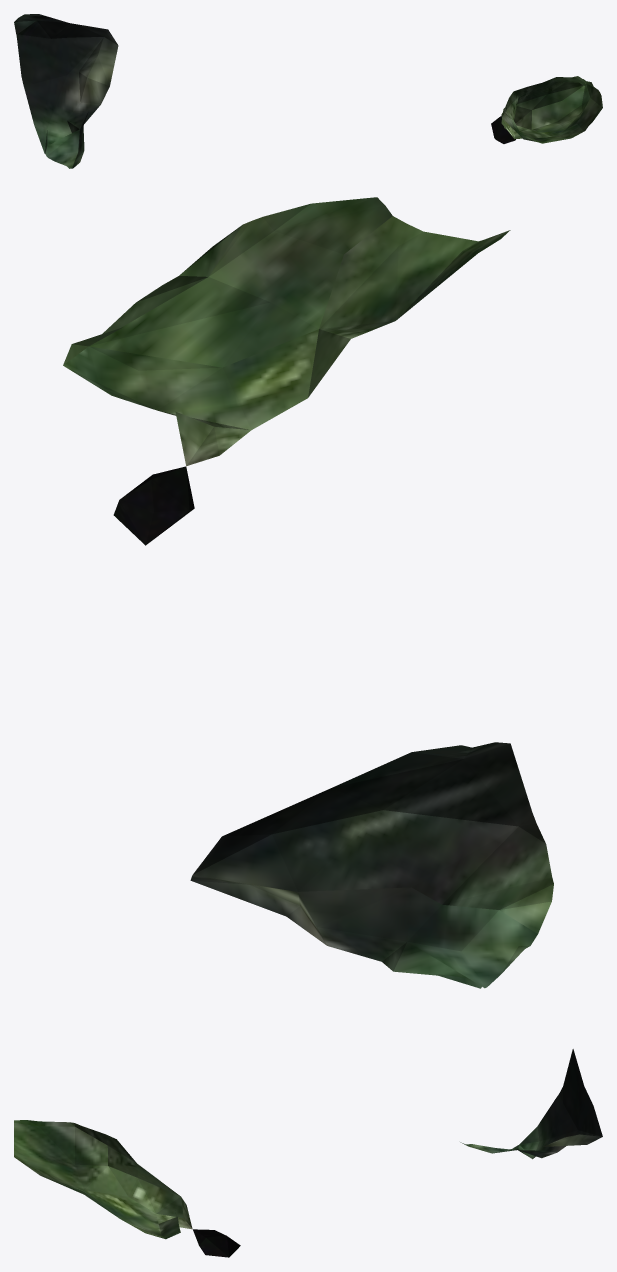
3 renders of one model, top to bottom at view 1: azimuth 30°, elevation 25°; view 2: azimuth 150°, elevation 25°; view 3: azimuth 270°, elevation 25°, orthographic. The views are drawn at different scales.
Size of the model in its own units: 14.4 by 5.22 by 19.34.
1 material, 1 textured.
